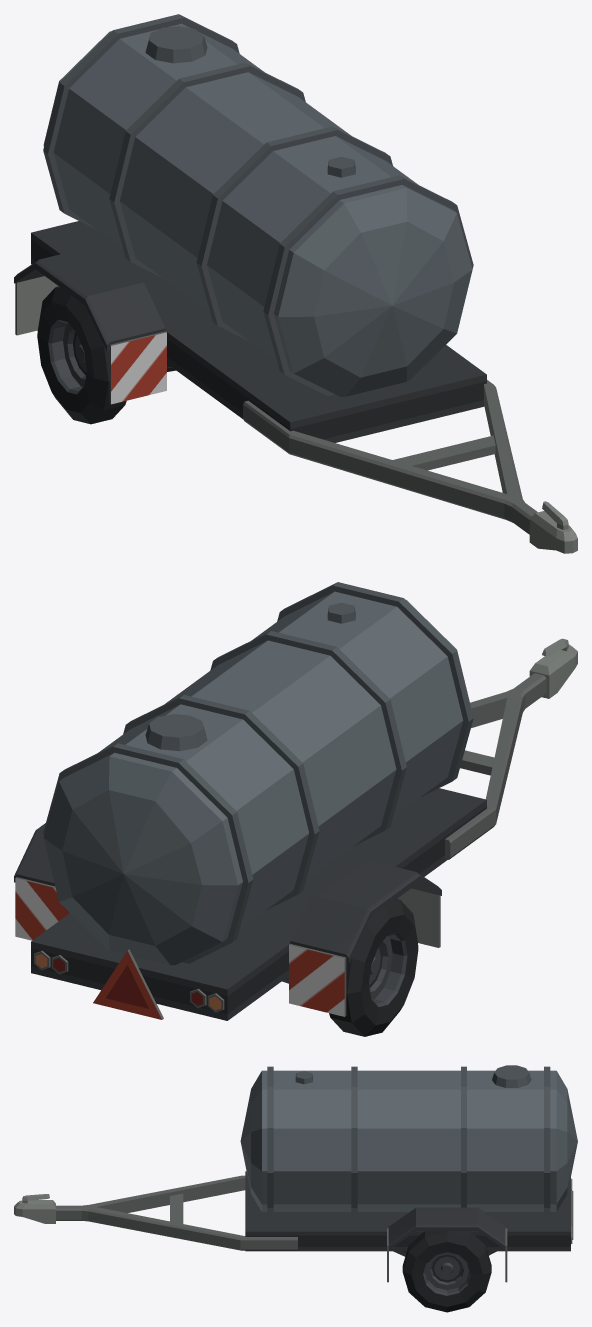
The model's file is SM_Veh_Attach_Trailer_Cylinder_01.glb.
3 views of the same model, one above another, from view 1: azimuth 30°, elevation 25°; view 2: azimuth 150°, elevation 25°; view 3: azimuth 270°, elevation 25° (orthographic). The views are drawn at different scales.
Parts seen in each view (by area): view 1: SM_Veh_Attach_Trailer_Cylinder_01, SM_Veh_Attach_Trailer_Cylinder_Wheel_r; view 2: SM_Veh_Attach_Trailer_Cylinder_01, SM_Veh_Attach_Trailer_Cylinder_Wheel_r; view 3: SM_Veh_Attach_Trailer_Cylinder_01, SM_Veh_Attach_Trailer_Cylinder_Wheel_l.
Part boxes in pixels (x1,y1,x2,y2): SM_Veh_Attach_Trailer_Cylinder_01: [14, 14, 577, 553]; SM_Veh_Attach_Trailer_Cylinder_Wheel_r: [37, 286, 126, 424]; SM_Veh_Attach_Trailer_Cylinder_01: [14, 582, 577, 1020]; SM_Veh_Attach_Trailer_Cylinder_Wheel_r: [329, 899, 418, 1036]; SM_Veh_Attach_Trailer_Cylinder_01: [14, 1065, 577, 1282]; SM_Veh_Attach_Trailer_Cylinder_Wheel_l: [402, 1231, 491, 1312].
Size of the model in its own units: 2.35 by 2.06 by 5.46.
Materials: 3 (3 with a texture image).
